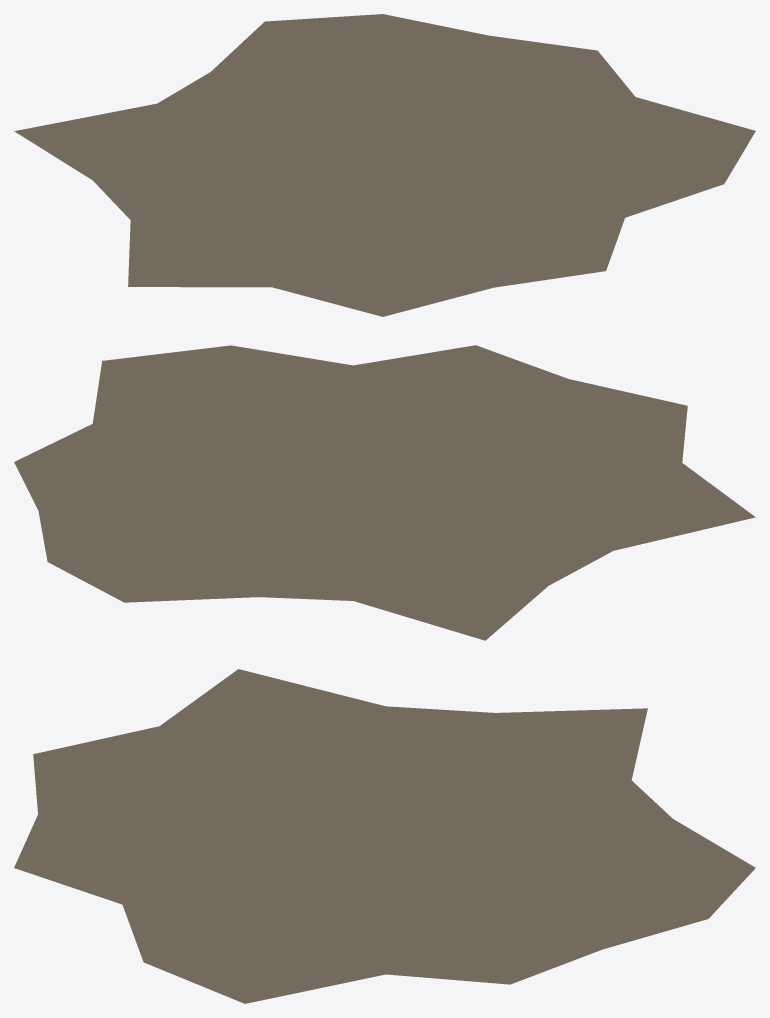
The model's file is mud_patch_a.glb.
3 views of the same model, one above another, from view 1: azimuth 30°, elevation 25°; view 2: azimuth 150°, elevation 25°; view 3: azimuth 270°, elevation 25° (orthographic). The views are drawn at different scales.
Visible parts, largest first — view 1: mud_patch_a; view 2: mud_patch_a; view 3: mud_patch_a.
Boxes of the visible parts, left/top/right/bottom form: mud_patch_a: left=14, top=14, right=755, bottom=316; mud_patch_a: left=14, top=345, right=755, bottom=640; mud_patch_a: left=14, top=669, right=755, bottom=1003.
Bounding box in the file's own units: 4.64 × 0 × 4.35.
